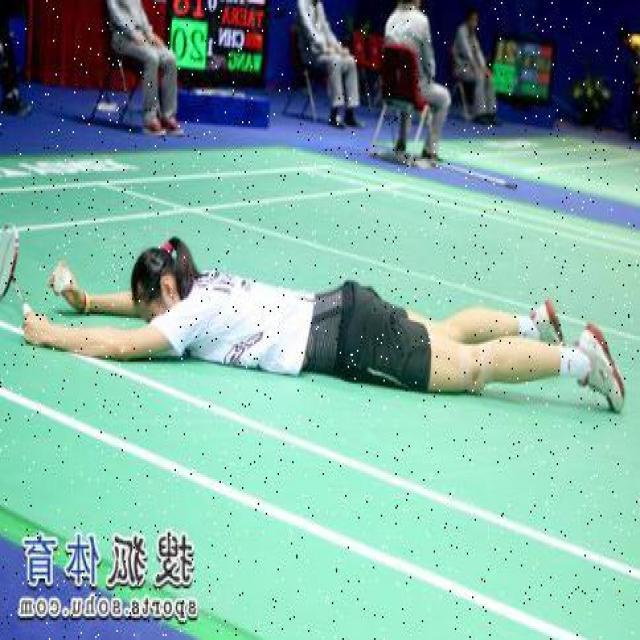fall: (44, 245, 628, 410)
